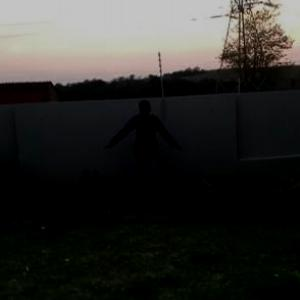land: (106, 98, 186, 209)
